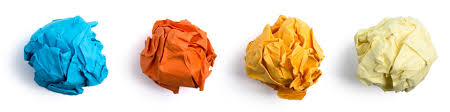crumpled paper: (143, 16, 220, 92), (245, 16, 313, 96), (361, 17, 430, 89), (26, 22, 116, 77)
